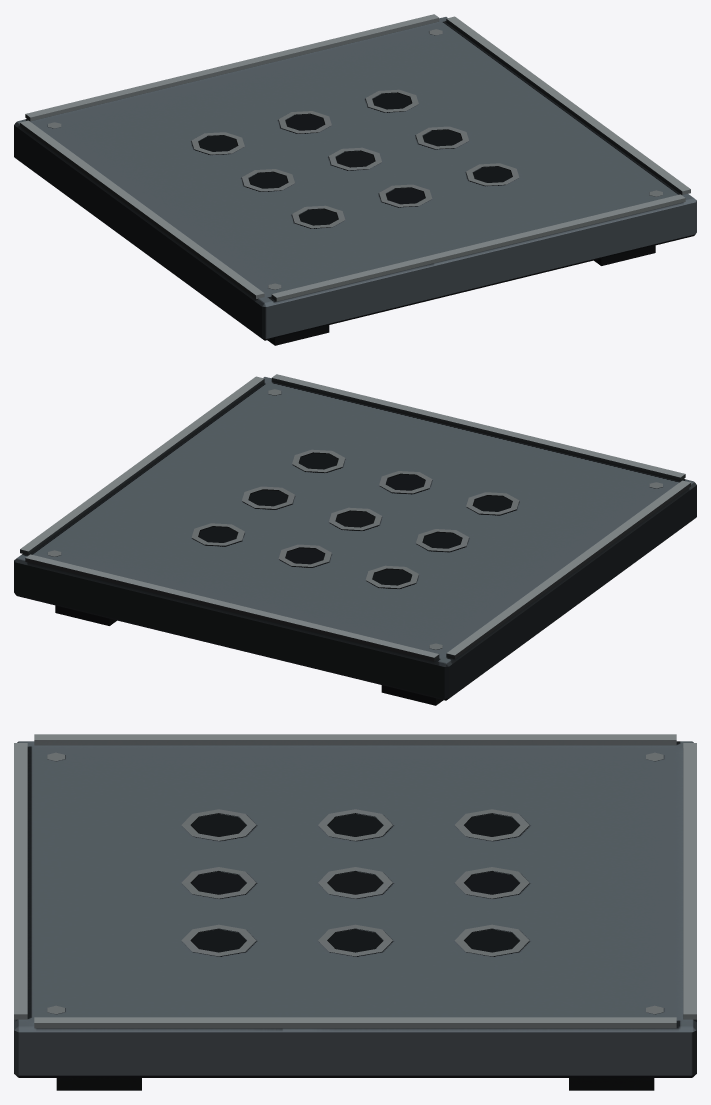
The model's file is 0-20261016-1900-ev045-r08-floor5-raisedfloortile_baked.glb.
3 views of the same model, one above another, from view 1: azimuth 30°, elevation 25°; view 2: azimuth 150°, elevation 25°; view 3: azimuth 270°, elevation 25° (orthographic). The views are drawn at different scales.
Parts seen in each view (by area): view 1: SW_Ops_RaisedFloorTile; view 2: SW_Ops_RaisedFloorTile; view 3: SW_Ops_RaisedFloorTile.
Part boxes in pixels (bbox=[...]): SW_Ops_RaisedFloorTile: bbox=[14, 14, 696, 345]; SW_Ops_RaisedFloorTile: bbox=[14, 374, 696, 705]; SW_Ops_RaisedFloorTile: bbox=[14, 734, 696, 1090].
Bounding box in the file's own units: 0.6 × 0.083 × 0.6.
Materials: 1 (1 with a texture image).
